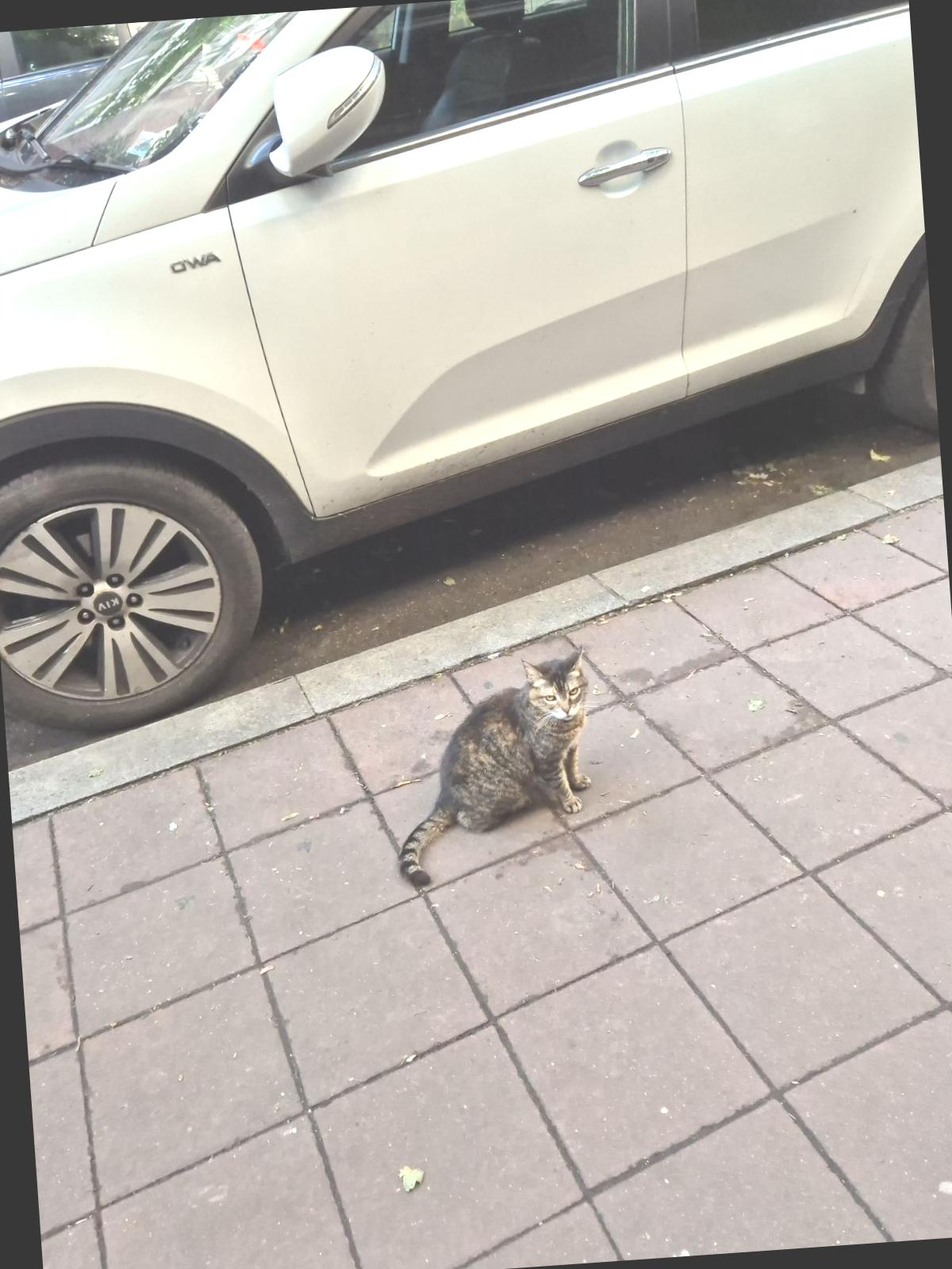macka: (385, 641, 601, 887)
